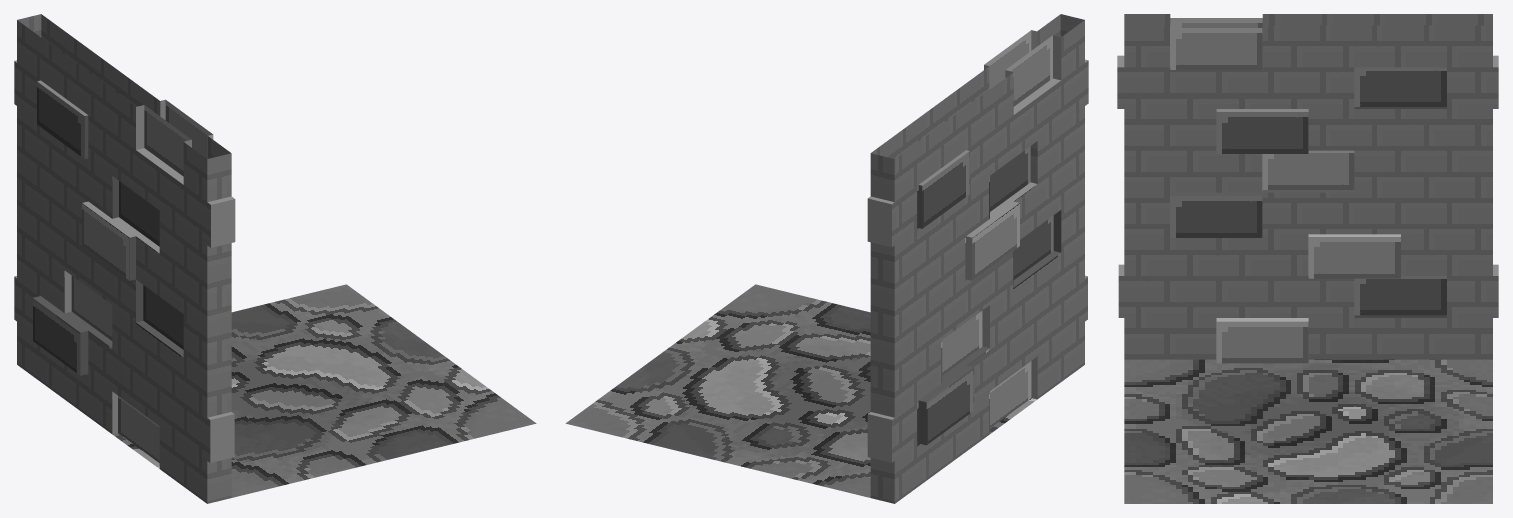
The picture shows the model from 3 angles, left to right: view 1: azimuth 30°, elevation 25°; view 2: azimuth 150°, elevation 25°; view 3: azimuth 270°, elevation 25°; orthographic projection. The views are drawn at different scales.
Parts seen in each view (by area): view 1: 1W; view 2: 1W; view 3: 1W.
Boxes of the visible parts, x1,y1,x2,y2 form: 1W: [14, 14, 536, 503]; 1W: [565, 14, 1088, 503]; 1W: [1117, 14, 1498, 503].
Bounding box in the file's own units: 2.05 × 2 × 2.07.
Materials: 2 (2 with a texture image).
